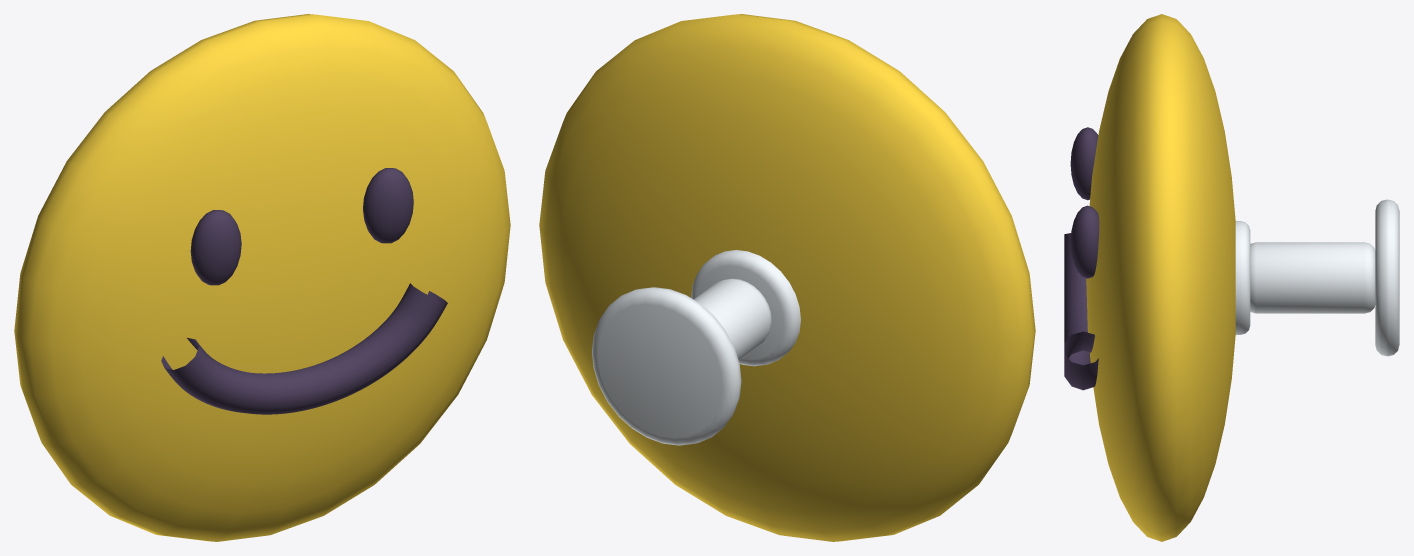
Rendered from smiley.glb.
The picture shows the model from 3 angles, left to right: view 1: azimuth 30°, elevation 25°; view 2: azimuth 150°, elevation 25°; view 3: azimuth 270°, elevation 25°; orthographic projection. The views are drawn at different scales.
Parts seen in each view (by area): view 1: Smiley_Body, Smiley_Smile, Smiley_Eye_L, Smiley_Eye_R; view 2: Smiley_Body, Attachment_Retaining_Disc.004, Attachment_Collar.004, Attachment_Stem.004; view 3: Smiley_Body, Attachment_Stem.004, Attachment_Retaining_Disc.004, Smiley_Smile, Attachment_Collar.004, Smiley_Eye_R, Smiley_Eye_L.
Boxes of the visible parts, x1,y1,x2,y2 form: Smiley_Body: (14,14,510,541); Smiley_Smile: (161,283,447,414); Smiley_Eye_L: (190,210,241,285); Smiley_Eye_R: (363,168,413,243); Smiley_Body: (539,14,1035,541); Attachment_Retaining_Disc.004: (592,287,741,445); Attachment_Collar.004: (691,250,800,366); Attachment_Stem.004: (694,278,771,360); Smiley_Body: (1086,14,1235,541); Attachment_Stem.004: (1250,242,1375,313); Attachment_Retaining_Disc.004: (1375,199,1399,356); Smiley_Smile: (1064,233,1098,390); Attachment_Collar.004: (1235,221,1250,334); Smiley_Eye_R: (1070,205,1099,278); Smiley_Eye_L: (1070,127,1098,200).
Size of the model in its own units: 0.37 by 0.37 by 0.2348.
